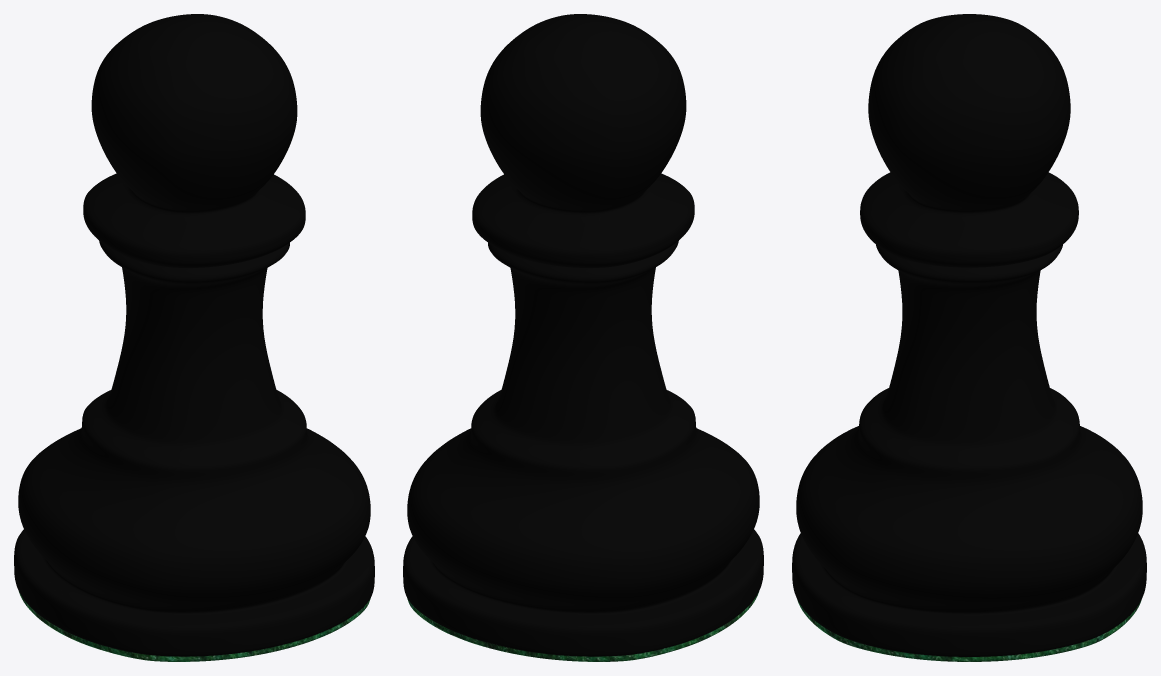
The model's file is pawn_chess_piece.glb.
3 renders of one model, left to right at view 1: azimuth 30°, elevation 25°; view 2: azimuth 150°, elevation 25°; view 3: azimuth 270°, elevation 25°, orthographic.
Parts seen in each view (by area): view 1: PAWN; view 2: PAWN; view 3: PAWN.
Boxes of the visible parts, x1=… form: PAWN: x1=14, y1=14, x2=374, y2=661; PAWN: x1=403, y1=14, x2=763, y2=661; PAWN: x1=792, y1=14, x2=1146, y2=661.
Size of the model in its own units: 2.37 by 4.17 by 2.37.
1 material, 1 textured.
